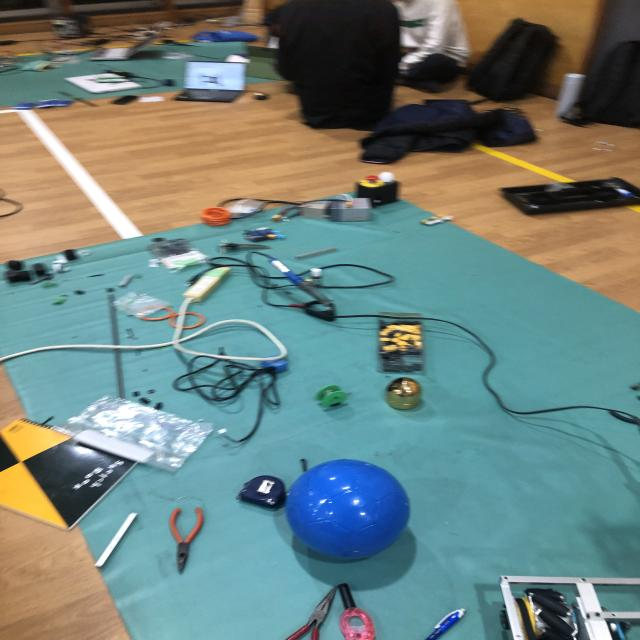blue_ball: (277, 456, 420, 562)
